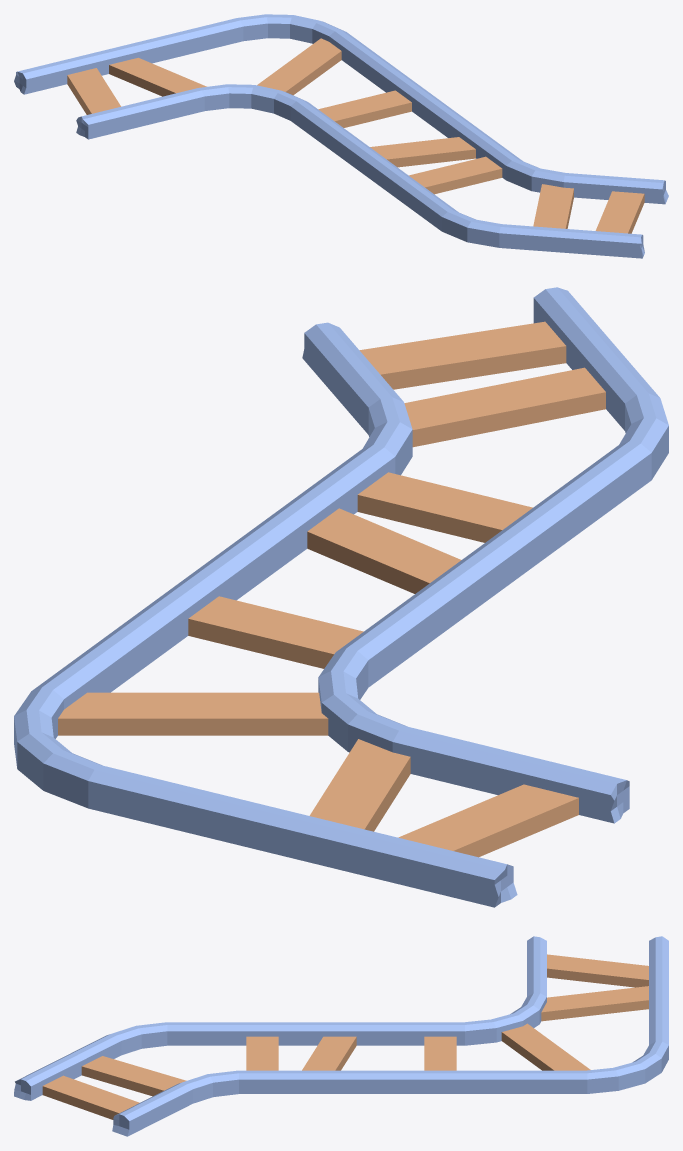
File: Rail_1.FBX
The picture shows the model from 3 angles, top to bottom: view 1: azimuth 30°, elevation 25°; view 2: azimuth 150°, elevation 25°; view 3: azimuth 270°, elevation 25°; orthographic projection. The views are drawn at different scales.
Parts seen in each view (by area): view 1: Box001; view 2: Box001; view 3: Box001.
Part boxes in pixels (x1,y1,x2,y2): Box001: (14,14,668,258); Box001: (14,287,668,907); Box001: (14,936,668,1136).
Bounding box in the file's own units: 68.51 × 3.15 × 104.
